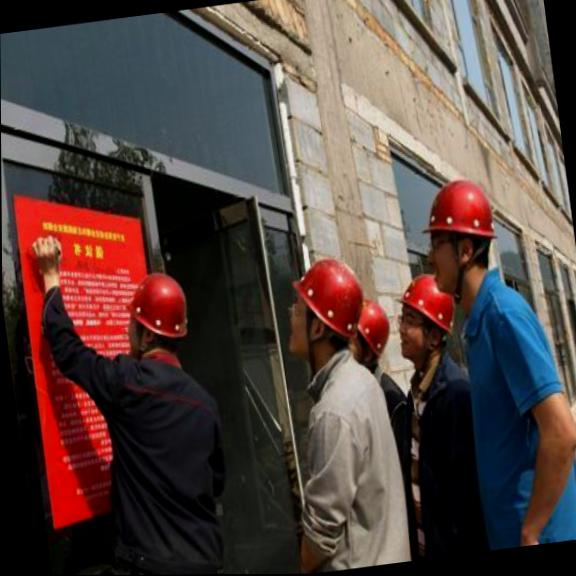no_safety_vest: (57, 344, 242, 576), (449, 276, 576, 551), (275, 357, 413, 574)
